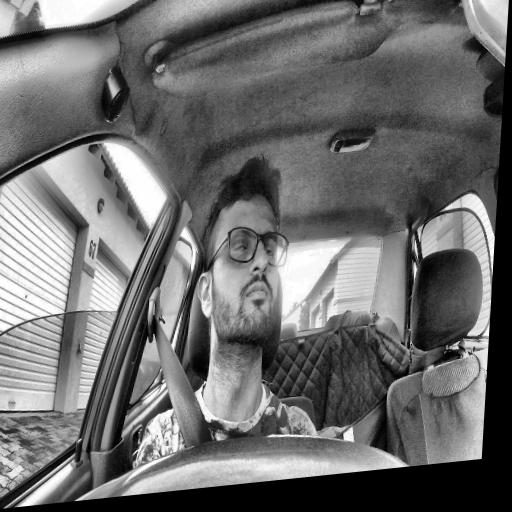drowsy: (193, 151, 295, 359)
